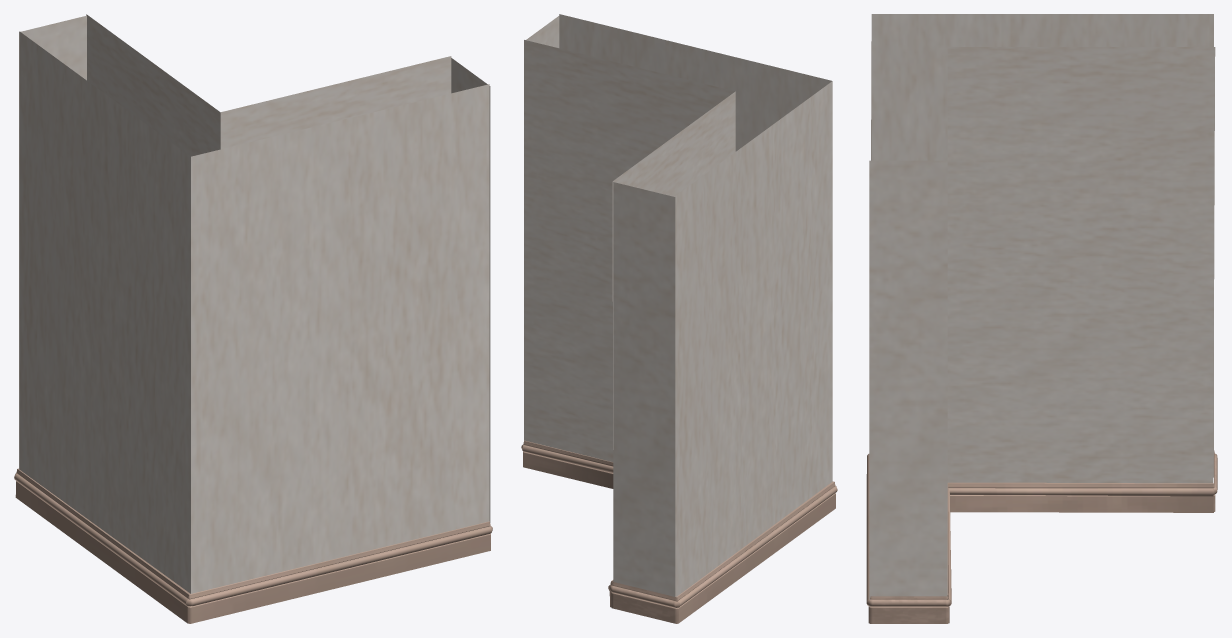
The model's file is Wall_Inner_Corner.fbx.
The picture shows the model from 3 angles, left to right: view 1: azimuth 30°, elevation 25°; view 2: azimuth 150°, elevation 25°; view 3: azimuth 270°, elevation 25°; orthographic projection. The views are drawn at different scales.
Visible parts, largest first — view 1: Wall_Inner_Corner, Wall_Inner_Corner_Back, Wall_Inner_Corner_Baseboard1, Wall_Inner_Corner_Right_Side, Wall_Inner_Corner_Left_Side; view 2: Wall_Inner_Corner, Wall_Inner_Corner_Back, Wall_Inner_Corner_Right_Side, Wall_Inner_Corner_Baseboard1, Wall_Inner_Corner_Baseboard_Back, Wall_Inner_Corner_Baseboard_Right_Side, Wall_Inner_Corner_Left_Side; view 3: Wall_Inner_Corner_Back, Wall_Inner_Corner_Left_Side, Wall_Inner_Corner, Wall_Inner_Corner_Baseboard_Back, Wall_Inner_Corner_Baseboard_Left_Side, Wall_Inner_Corner_Baseboard1.
Part boxes in pixels (x1,y1,x2,y2): Wall_Inner_Corner: (19, 31, 489, 593); Wall_Inner_Corner_Back: (86, 14, 451, 156); Wall_Inner_Corner_Baseboard1: (14, 469, 491, 623); Wall_Inner_Corner_Right_Side: (19, 15, 86, 468); Wall_Inner_Corner_Left_Side: (451, 58, 490, 522); Wall_Inner_Corner: (559, 14, 832, 596); Wall_Inner_Corner_Back: (524, 40, 735, 461); Wall_Inner_Corner_Right_Side: (613, 182, 675, 596); Wall_Inner_Corner_Baseboard1: (677, 481, 837, 622); Wall_Inner_Corner_Baseboard_Back: (522, 440, 613, 607); Wall_Inner_Corner_Baseboard_Right_Side: (609, 581, 680, 623); Wall_Inner_Corner_Left_Side: (526, 16, 559, 47); Wall_Inner_Corner_Back: (947, 47, 1215, 483); Wall_Inner_Corner_Left_Side: (869, 160, 947, 606); Wall_Inner_Corner: (871, 14, 1213, 477); Wall_Inner_Corner_Baseboard_Back: (947, 482, 1213, 623); Wall_Inner_Corner_Baseboard_Left_Side: (866, 596, 950, 623); Wall_Inner_Corner_Baseboard1: (866, 454, 869, 606).
Bounding box in the file's own units: 0.0207 × 0.03 × 0.0206.
